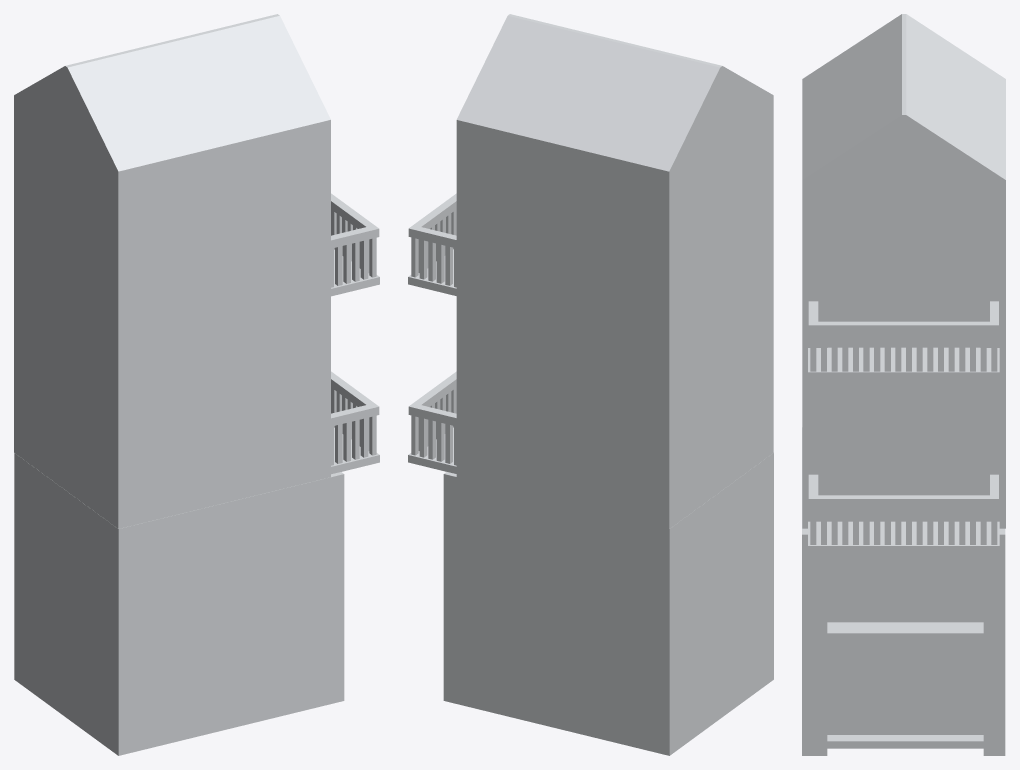
Rendered from nha_bac_loan.fbx.
3 renders of one model, left to right at view 1: azimuth 30°, elevation 25°; view 2: azimuth 150°, elevation 25°; view 3: azimuth 270°, elevation 25°, orthographic. The views are drawn at different scales.
Parts seen in each view (by area): view 1: nha_bac_Loan; view 2: nha_bac_Loan; view 3: nha_bac_Loan.
Boxes of the visible parts, x1=… form: nha_bac_Loan: x1=14, y1=14, x2=379, y2=755; nha_bac_Loan: x1=408, y1=14, x2=773, y2=755; nha_bac_Loan: x1=802, y1=14, x2=1005, y2=755.
Bounding box in the file's own units: 1615 × 3798 × 1106.
Materials: 1 (1 with a texture image).
